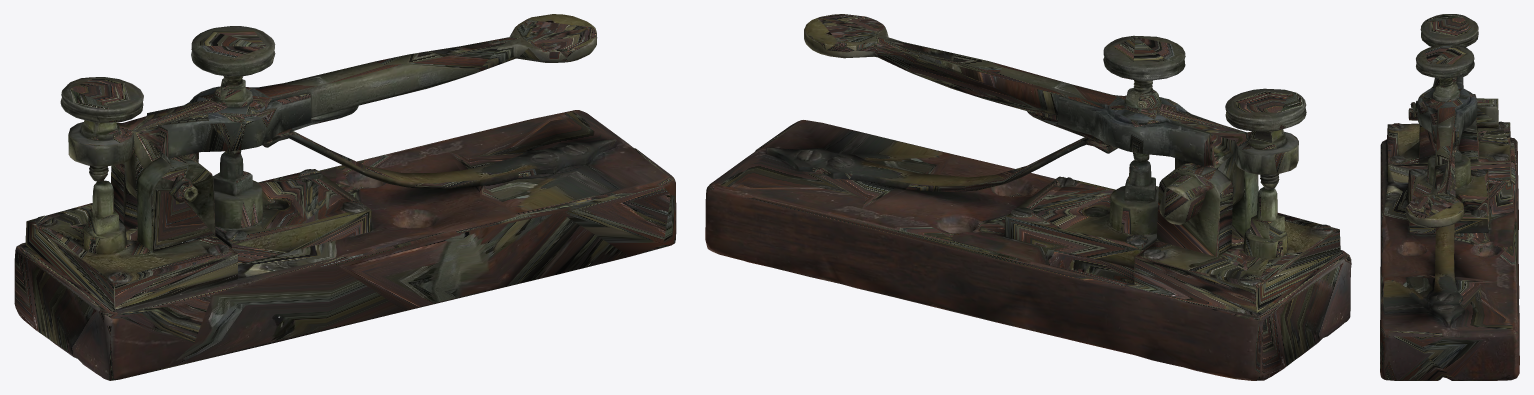
The model's file is telegraph.glb.
The picture shows the model from 3 angles, left to right: view 1: azimuth 30°, elevation 25°; view 2: azimuth 150°, elevation 25°; view 3: azimuth 270°, elevation 25°; orthographic projection. The views are drawn at different scales.
Bounding box in the file's own units: 169 × 76.38 × 50.79.
Materials: 1 (1 with a texture image).
